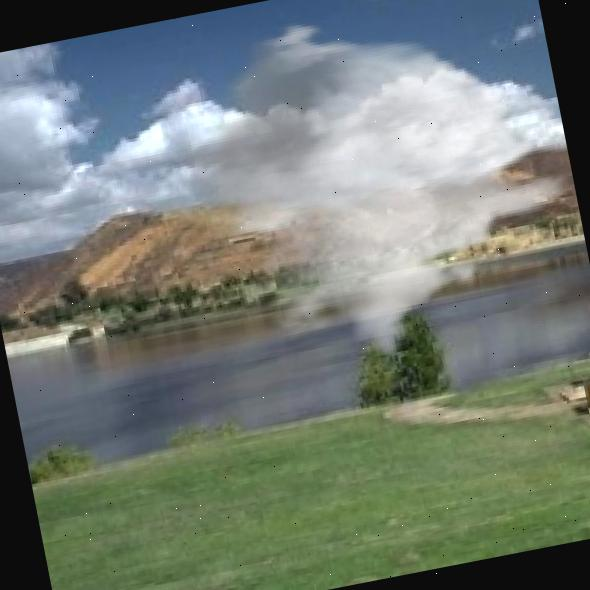smoke: (148, 0, 590, 387)
